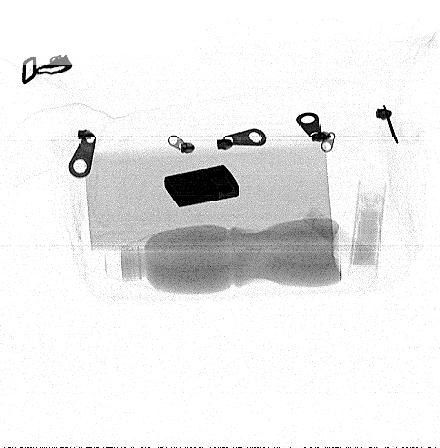Lighter: (163, 164, 240, 207)
